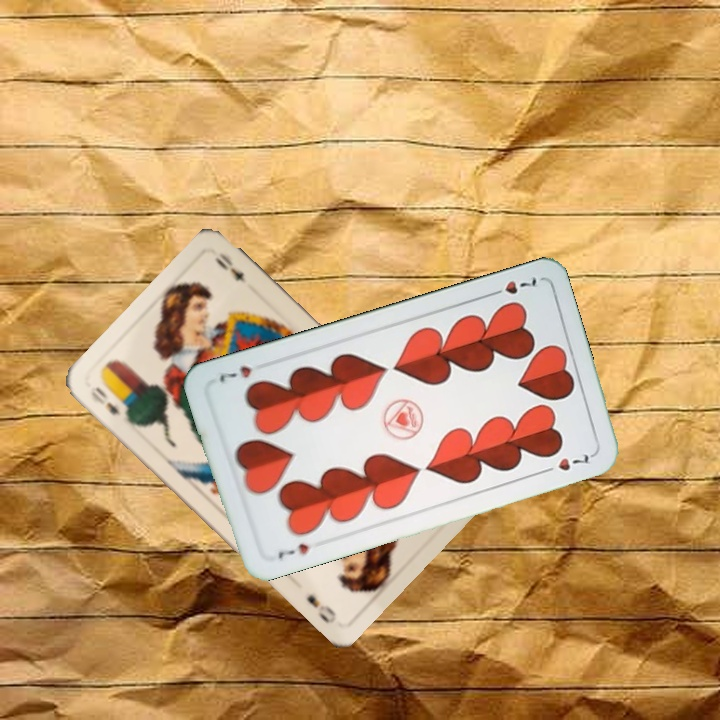EO: (86, 382, 124, 419)
H7: (484, 272, 539, 300), (274, 539, 311, 562)
